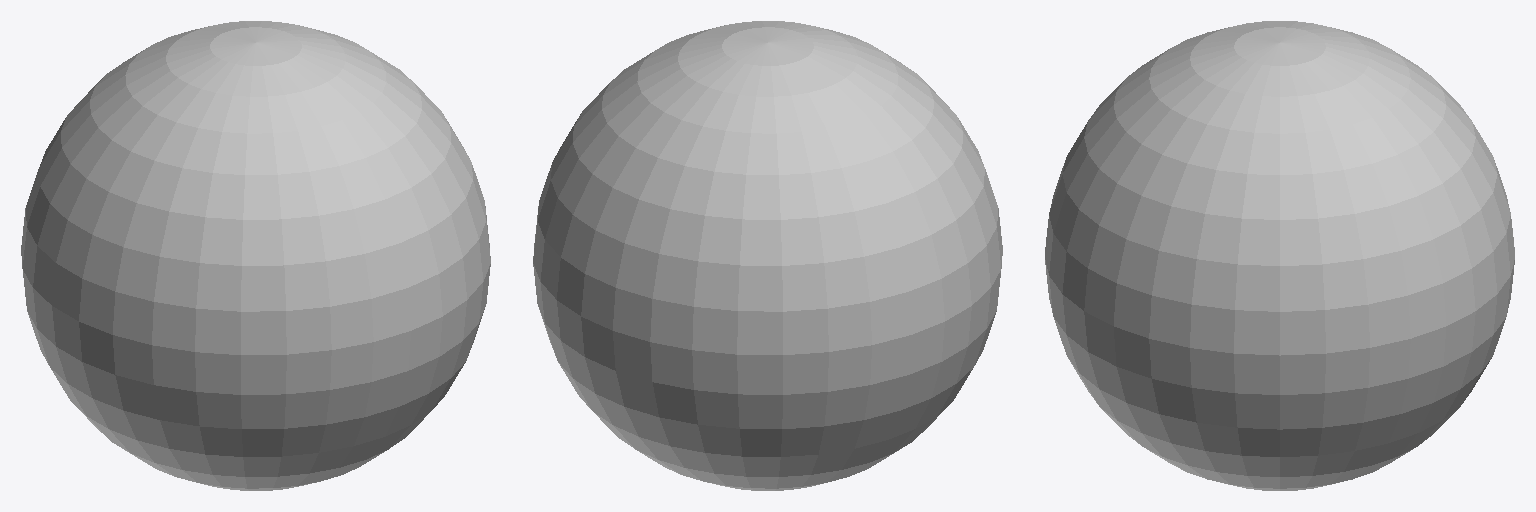
File: sphere_full.obj
3 renders of one model, left to right at view 1: azimuth 30°, elevation 25°; view 2: azimuth 150°, elevation 25°; view 3: azimuth 270°, elevation 25°, orthographic.
Visible parts, largest first — view 1: Sphere; view 2: Sphere; view 3: Sphere.
Part boxes in pixels (x1,y1,x2,y2): Sphere: (21,21,490,490); Sphere: (533,21,1002,490); Sphere: (1045,21,1514,490).
Size of the model in its own units: 2 by 2 by 2.